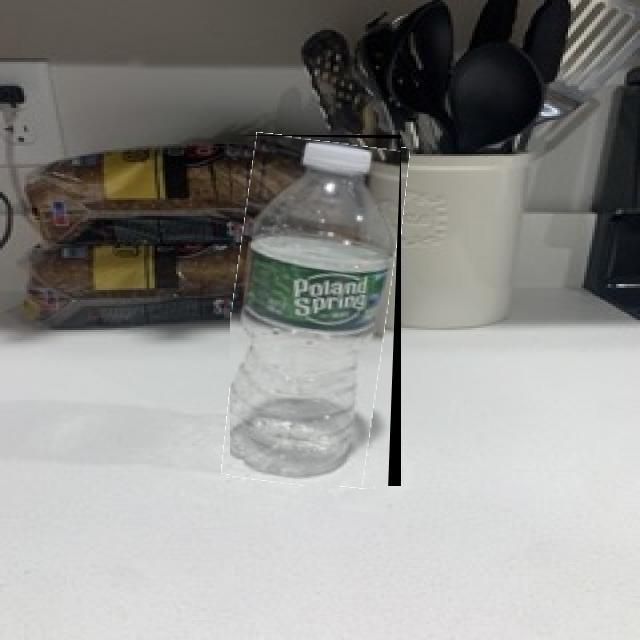water_bottle: (230, 135, 401, 486)
